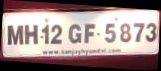character: (6, 24, 24, 46), (24, 23, 38, 45), (67, 23, 81, 43), (103, 22, 116, 43), (50, 23, 62, 45), (83, 22, 95, 44), (118, 22, 131, 42), (133, 22, 145, 42), (144, 22, 156, 42), (41, 24, 50, 44)
